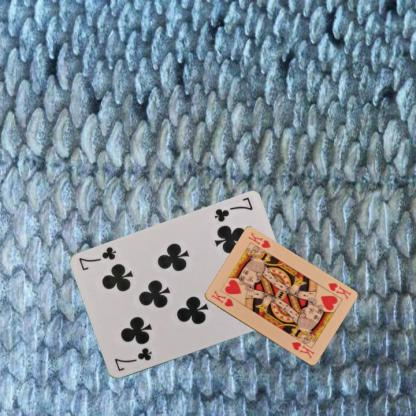7c: (211, 194, 254, 224), (112, 345, 153, 373)
Kh: (325, 280, 352, 301), (209, 288, 235, 308)
